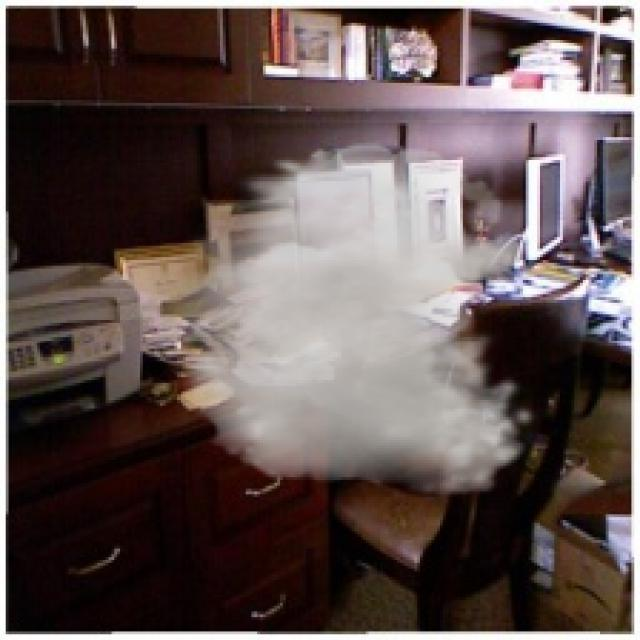Smoke: (131, 142, 540, 498)
